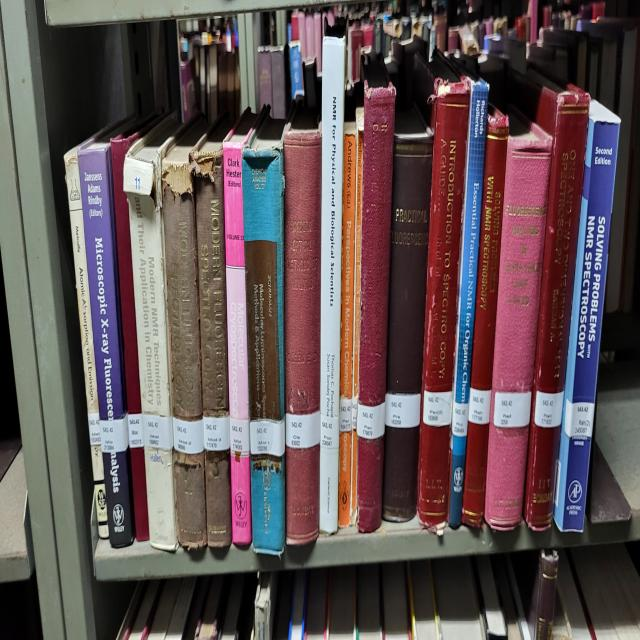Book: (511, 81, 590, 530), (554, 100, 620, 533), (485, 111, 552, 530), (124, 114, 179, 549), (418, 78, 470, 530), (79, 141, 134, 547), (382, 108, 432, 522), (161, 116, 208, 549), (462, 108, 509, 528), (242, 146, 285, 555), (64, 149, 109, 538), (449, 81, 488, 528), (191, 116, 231, 547), (358, 84, 395, 533), (284, 108, 321, 544), (111, 122, 149, 541), (320, 35, 345, 533), (339, 122, 356, 528), (350, 108, 364, 525), (226, 265, 249, 419)
Label: (250, 419, 285, 457), (285, 411, 320, 449), (494, 392, 531, 427), (385, 392, 421, 427), (172, 417, 204, 455), (564, 400, 595, 438), (142, 414, 174, 449), (422, 390, 452, 427), (534, 390, 564, 427), (100, 414, 129, 452), (202, 414, 230, 452), (356, 403, 385, 438), (469, 387, 491, 425), (230, 417, 250, 457), (320, 414, 340, 449), (451, 400, 469, 436), (128, 414, 144, 449), (88, 411, 101, 446), (88, 411, 101, 446), (340, 398, 352, 433)
